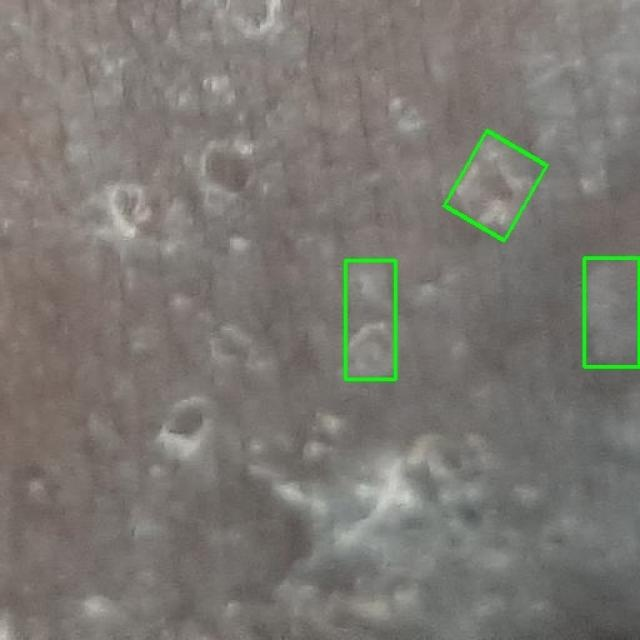Eczema: (444, 131, 547, 240), (345, 260, 395, 379), (584, 258, 639, 366)
